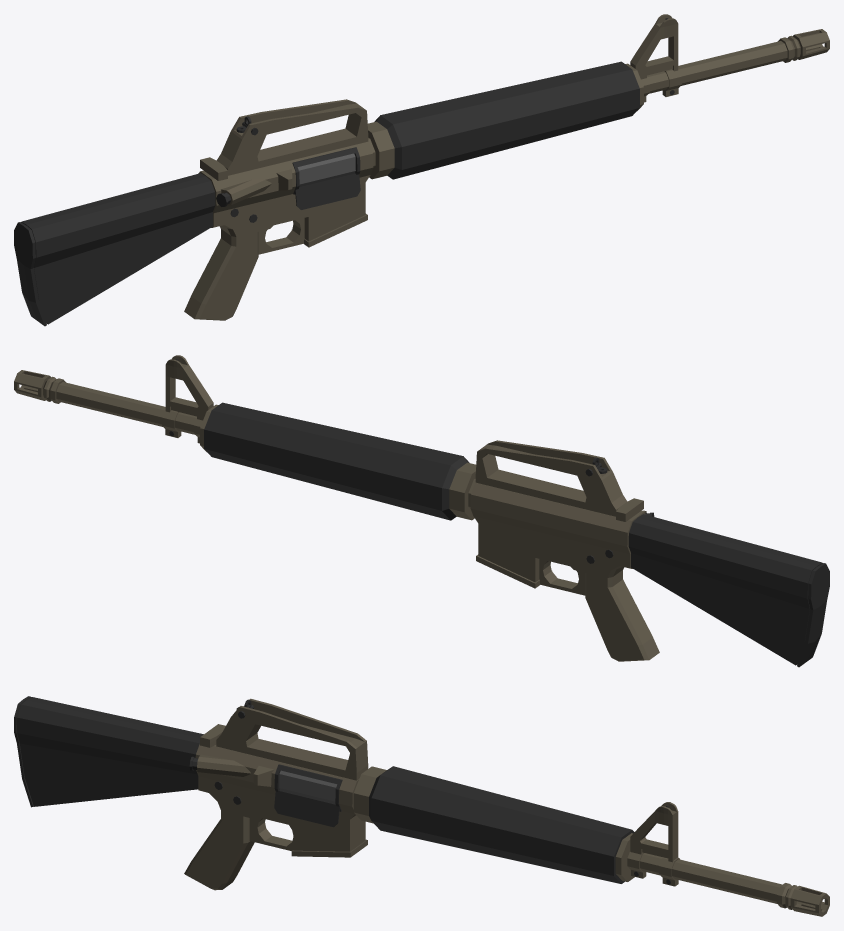
Rendered from AssaultRifle5_02.fbx.
3 views of the same model, one above another, from view 1: azimuth 30°, elevation 25°; view 2: azimuth 150°, elevation 25°; view 3: azimuth 330°, elevation 25° (orthographic).
Parts seen in each view (by area): view 1: AssaultRifle5_02; view 2: AssaultRifle5_02; view 3: AssaultRifle5_02.
Boxes of the visible parts, left/top/right/bottom form: AssaultRifle5_02: left=14, top=14, right=829, bottom=326; AssaultRifle5_02: left=14, top=355, right=829, bottom=667; AssaultRifle5_02: left=14, top=696, right=829, bottom=916.
Bounding box in the file's own units: 1.04 × 0.2381 × 0.0756.
